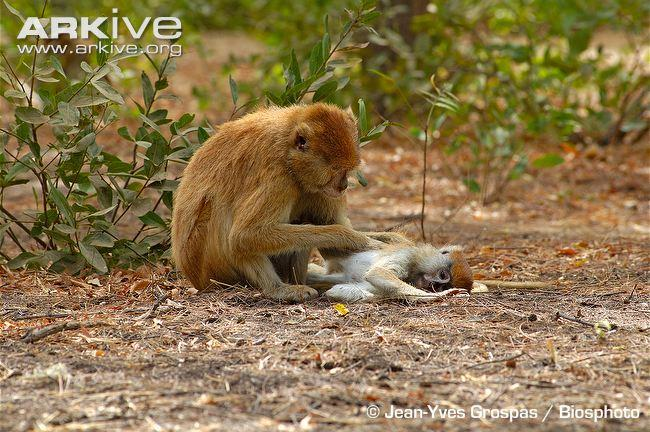monkey: (171, 101, 479, 304)
